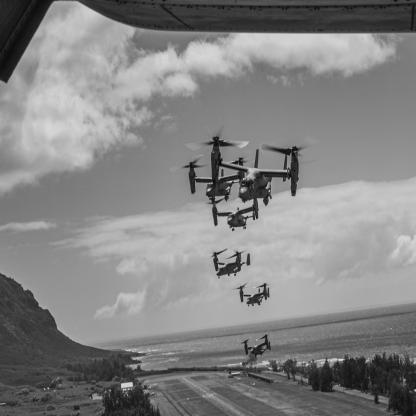V22: (184, 126, 323, 208), (170, 151, 256, 204), (201, 197, 260, 233), (206, 248, 252, 280), (230, 282, 275, 308), (239, 332, 275, 358)
